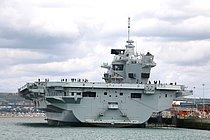MIL_Ship: (16, 17, 182, 128)
